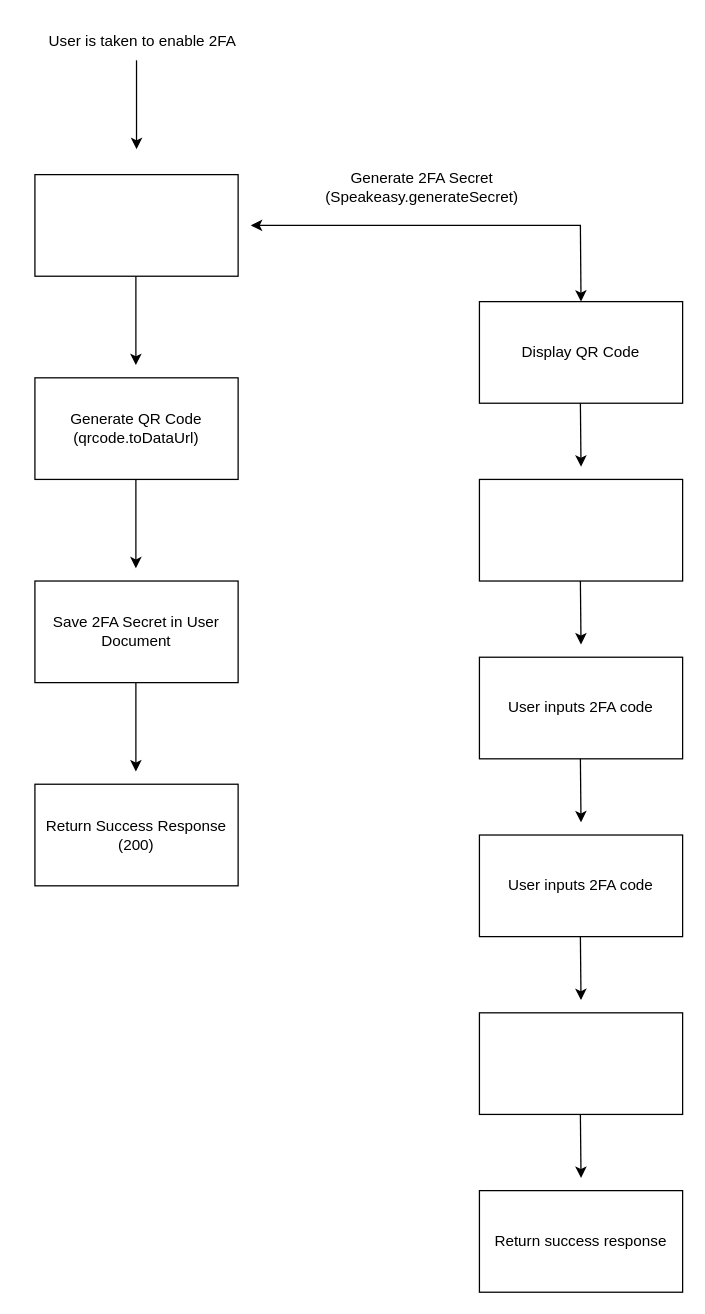
Some shapes in this 705 by 1314 pixel diagram are drawn without their labels. The shapes that lost their labels are listed below. From the top down, each one's box as (x1, y1, x2, y2) in pixels, then its label:
(34, 173, 238, 276): Backend API (Express/Node.js)
(478, 478, 683, 581): User scans QR code
(478, 1012, 683, 1114): Validate 2FA code
